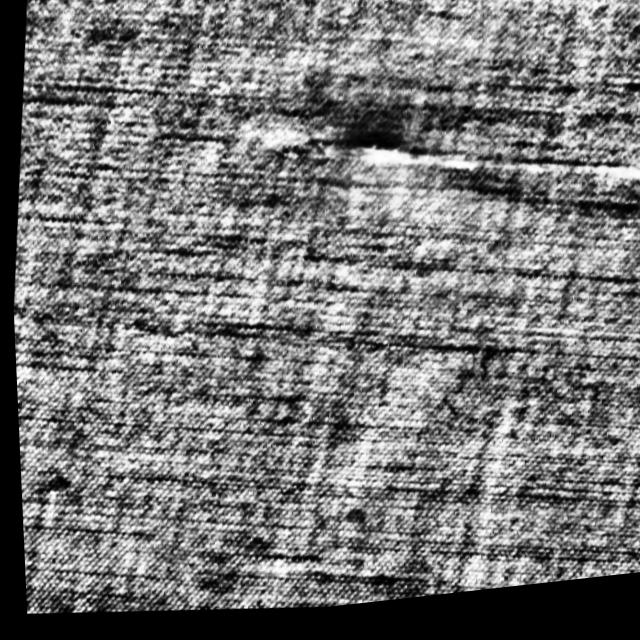Stitch: (279, 109, 640, 232)
